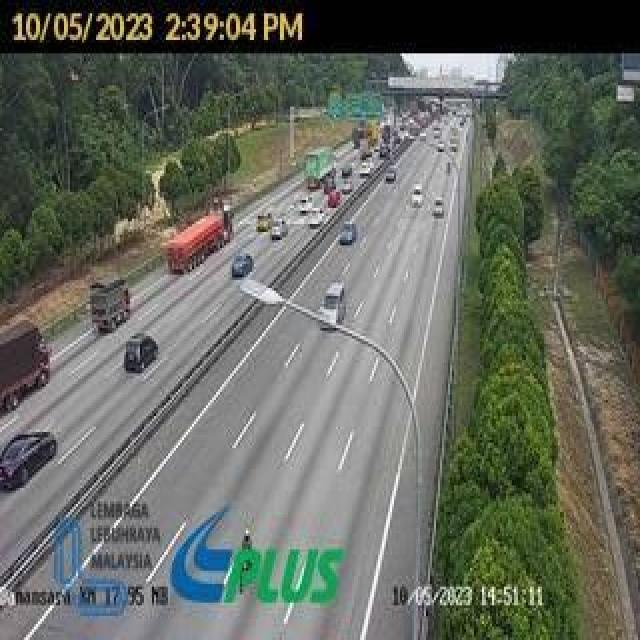Car: (0, 427, 63, 485), (119, 330, 156, 378), (318, 281, 347, 330), (230, 248, 254, 284), (406, 179, 426, 219), (335, 216, 359, 248), (428, 191, 450, 224), (306, 203, 325, 229), (254, 206, 272, 233), (326, 184, 344, 211), (267, 216, 287, 240), (294, 193, 312, 215), (361, 154, 378, 177), (338, 176, 352, 200), (384, 165, 398, 188)
Truck: (160, 193, 237, 277), (0, 317, 56, 403), (87, 274, 134, 332), (302, 146, 338, 184)
